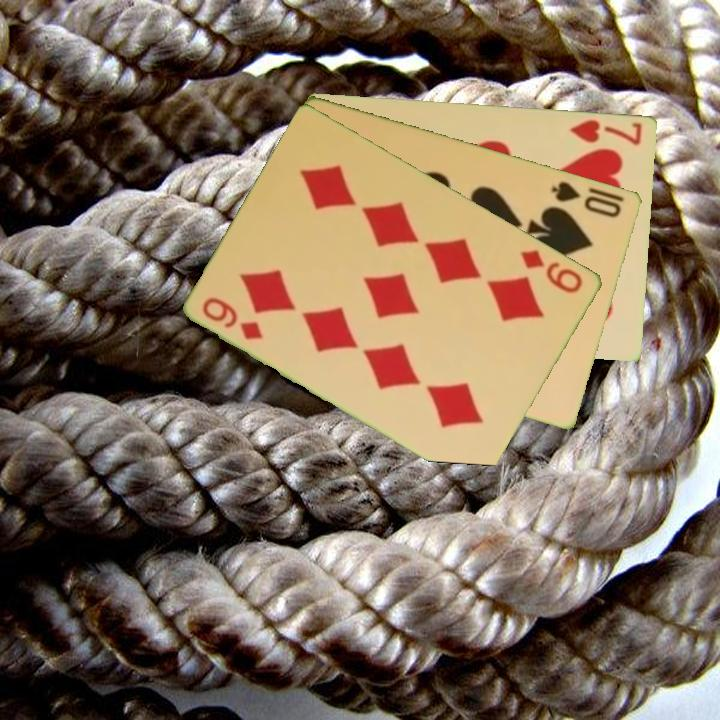10s: (548, 177, 625, 220)
7h: (567, 116, 646, 148)
9d: (517, 245, 587, 296), (199, 293, 267, 343)
